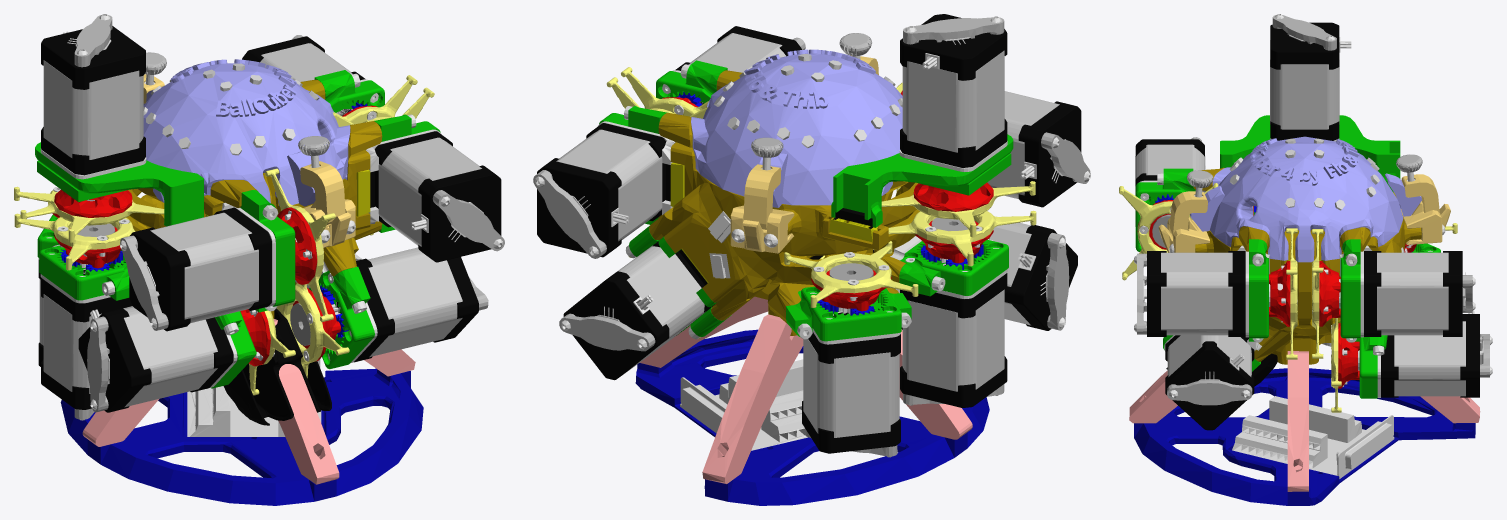
Rendered from ballcuber.glb.
3 views of the same model, side by side, from view 1: azimuth 30°, elevation 25°; view 2: azimuth 150°, elevation 25°; view 3: azimuth 270°, elevation 25° (orthographic). The views are drawn at different scales.
Parts seen in each view (by area): view 1: BallCuber simplifie; view 2: BallCuber simplifie; view 3: BallCuber simplifie.
Part boxes in pixels (<box>): BallCuber simplifie: <box>14,14,504,505</box>; BallCuber simplifie: <box>533,14,1090,505</box>; BallCuber simplifie: <box>1119,14,1492,505</box>.
Bounding box in the file's own units: 0.2262 × 0.2376 × 0.2267.
